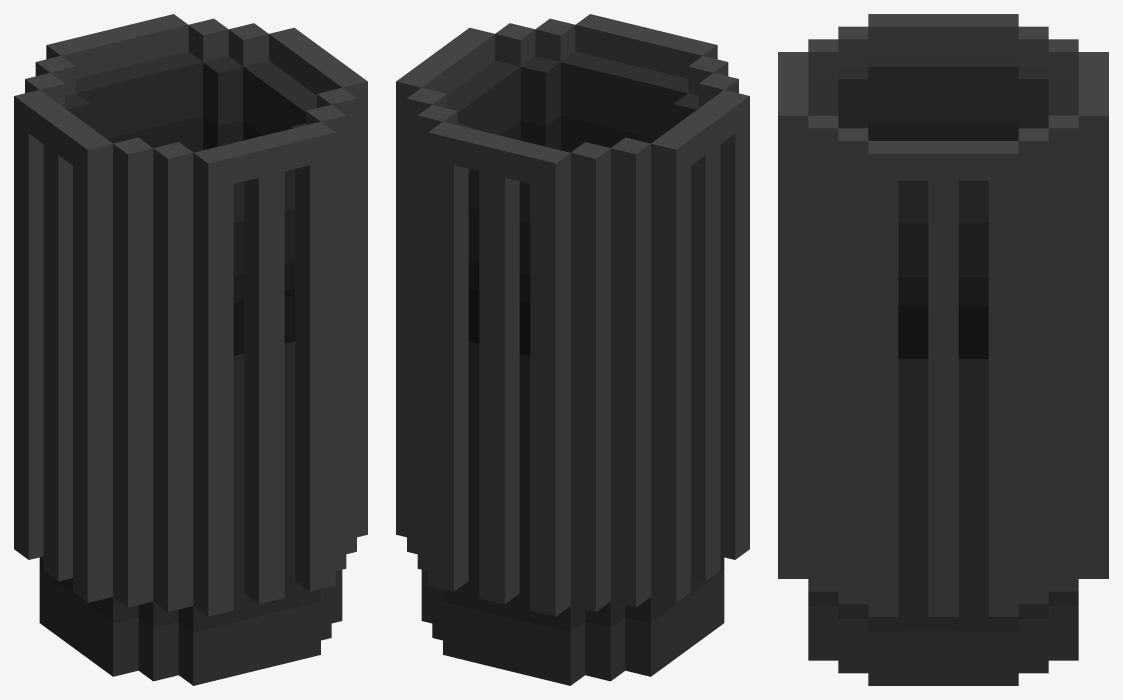
The model's file is bin.dae.
3 renders of one model, left to right at view 1: azimuth 30°, elevation 25°; view 2: azimuth 150°, elevation 25°; view 3: azimuth 270°, elevation 25°, orthographic. The views are drawn at different scales.
Parts seen in each view (by area): view 1: bin; view 2: bin; view 3: bin.
Boxes of the visible parts, x1=… form: bin: x1=14, y1=14, x2=367, y2=685; bin: x1=396, y1=14, x2=749, y2=685; bin: x1=778, y1=14, x2=1108, y2=685.
Bounding box in the file's own units: 1.1 × 1.1 × 2.
1 material, 1 textured.
